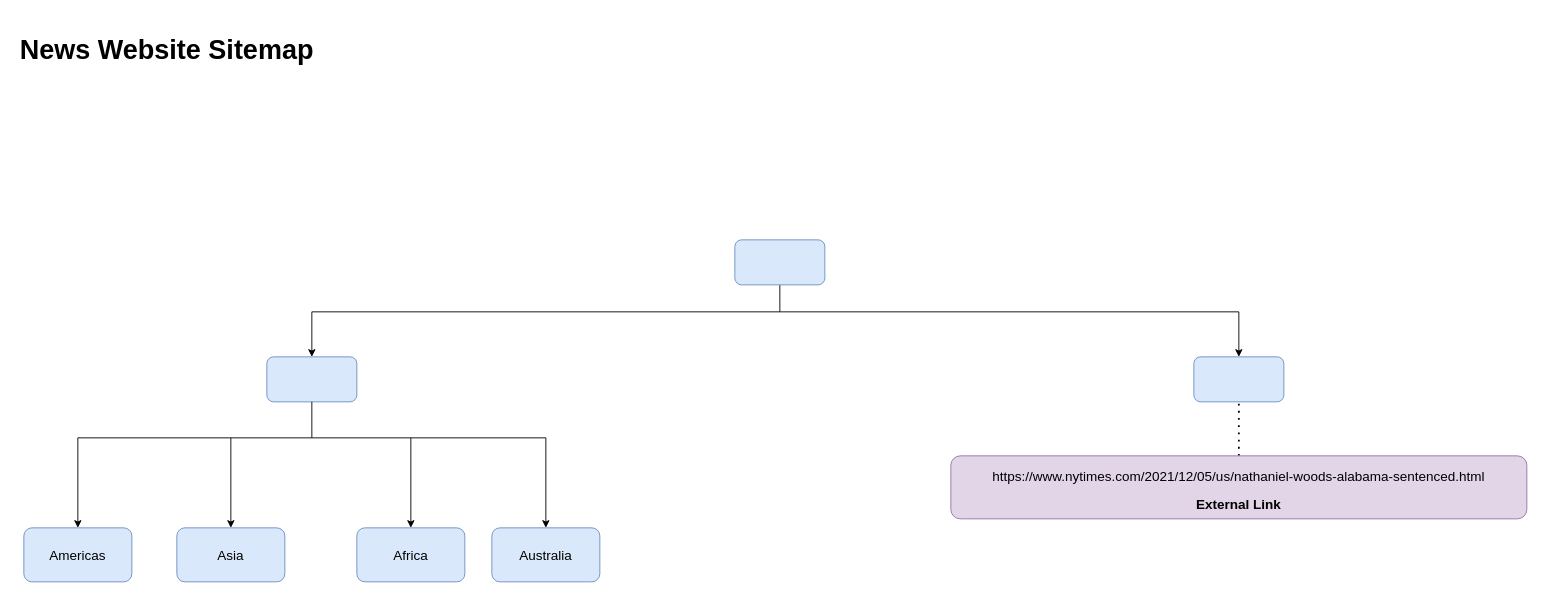
The diagram is 1543 pixels wide and 598 high, and some of its shapes have lost their labels. The box of each missing label's shape, as (x1, y1, x2, y2) in pixels:
Home: (734, 239, 825, 285)
U.S.: (1193, 356, 1284, 402)
World: (266, 356, 357, 402)
